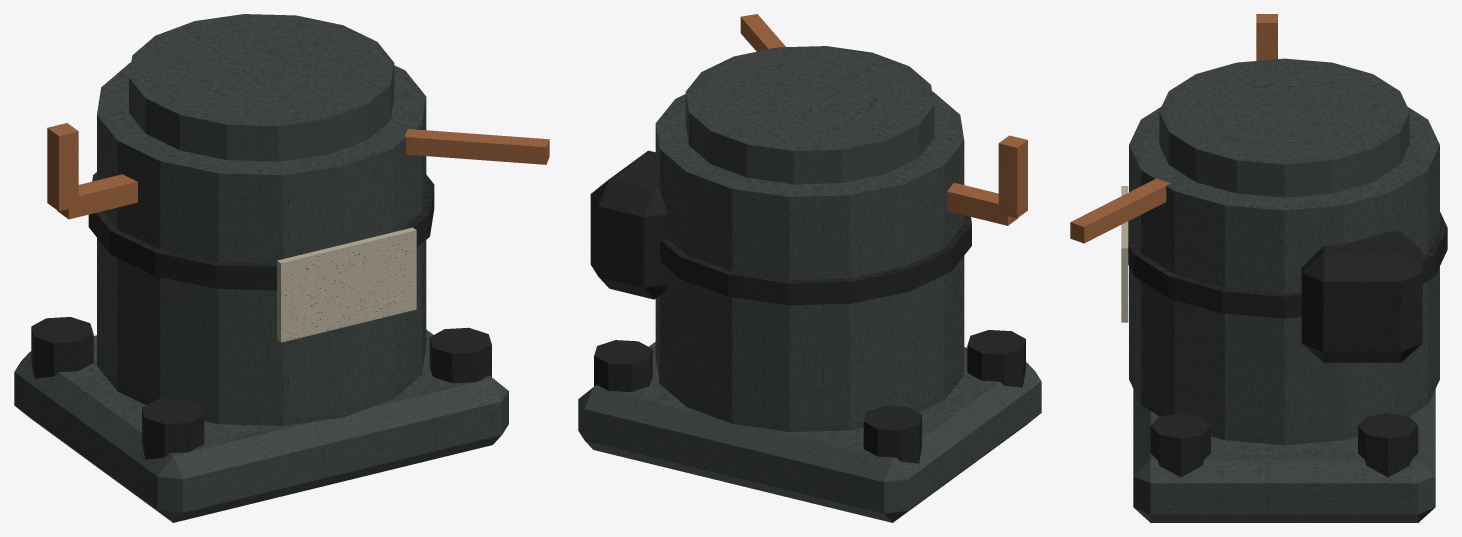
File: CompactCompressor.fbx
3 views of the same model, side by side, from view 1: azimuth 30°, elevation 25°; view 2: azimuth 150°, elevation 25°; view 3: azimuth 270°, elevation 25° (orthographic). The views are drawn at different scales.
Visible parts, largest first — view 1: CompactCompressor; view 2: CompactCompressor; view 3: CompactCompressor.
Boxes of the visible parts, bbox=[...] form: CompactCompressor: bbox=[14, 14, 549, 522]; CompactCompressor: bbox=[578, 14, 1041, 522]; CompactCompressor: bbox=[1070, 14, 1447, 522].
Size of the model in its own units: 49.92 by 43.25 by 43.71.
1 material, 1 textured.
